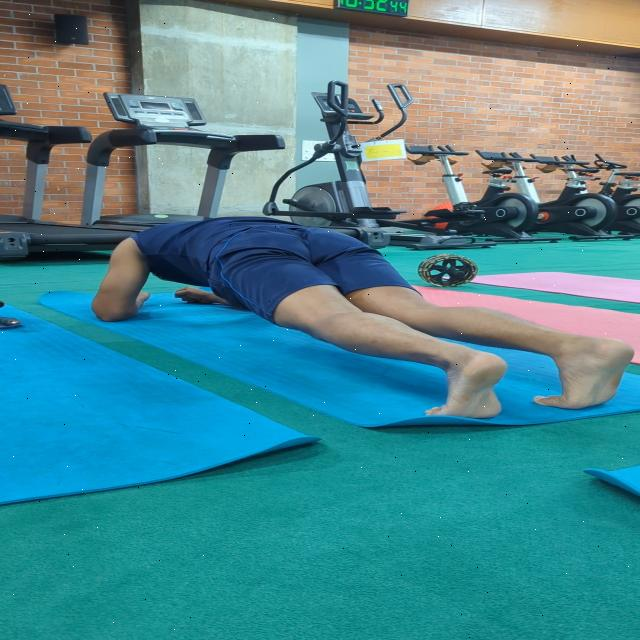Normal_Plunk: (73, 202, 640, 440)
